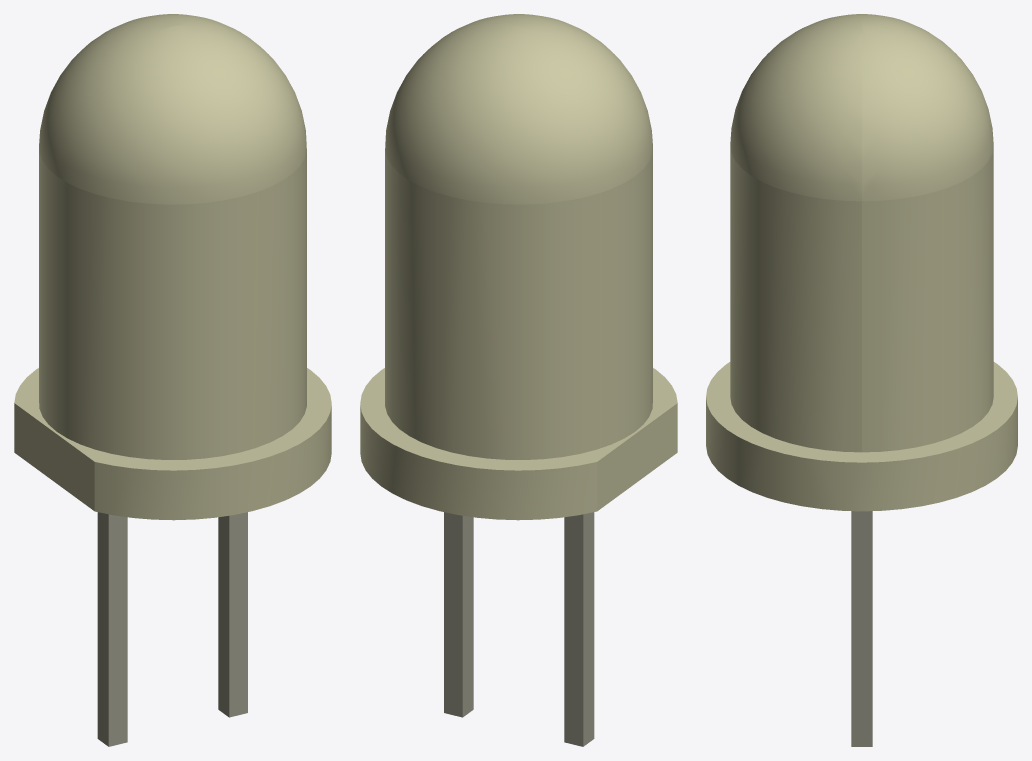
Rendered from led-5mm-clear.glb.
3 renders of one model, left to right at view 1: azimuth 30°, elevation 25°; view 2: azimuth 150°, elevation 25°; view 3: azimuth 270°, elevation 25°, orthographic.
Bounding box in the file's own units: 5.4 × 14.1 × 5.8.
